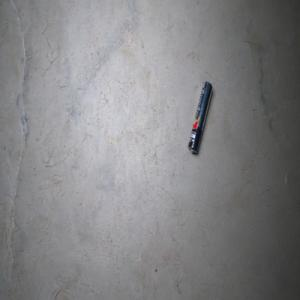Battery: (187, 80, 213, 157)
